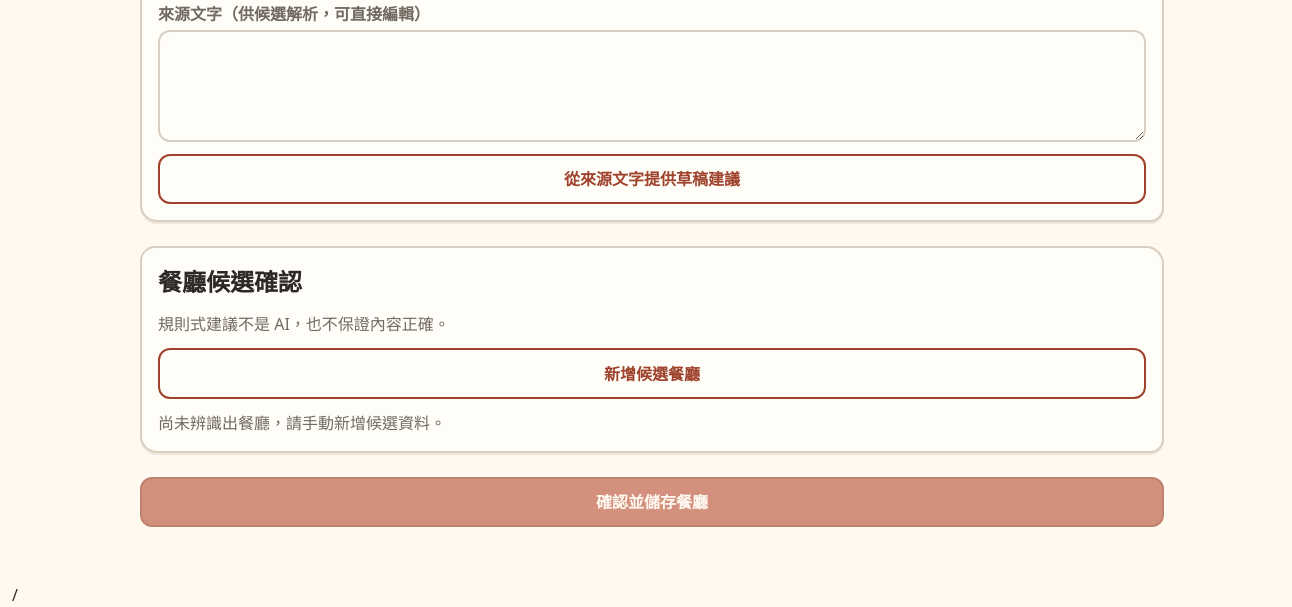
Test: ImportRestaurantPage › does not recreate the restaurant when a source retry fails again
The width and height of the screenshot is (1292, 607).
(page scrolled)
Click the button "新增候選餐廳".
click(652, 374)  # box [158, 348, 1146, 399]
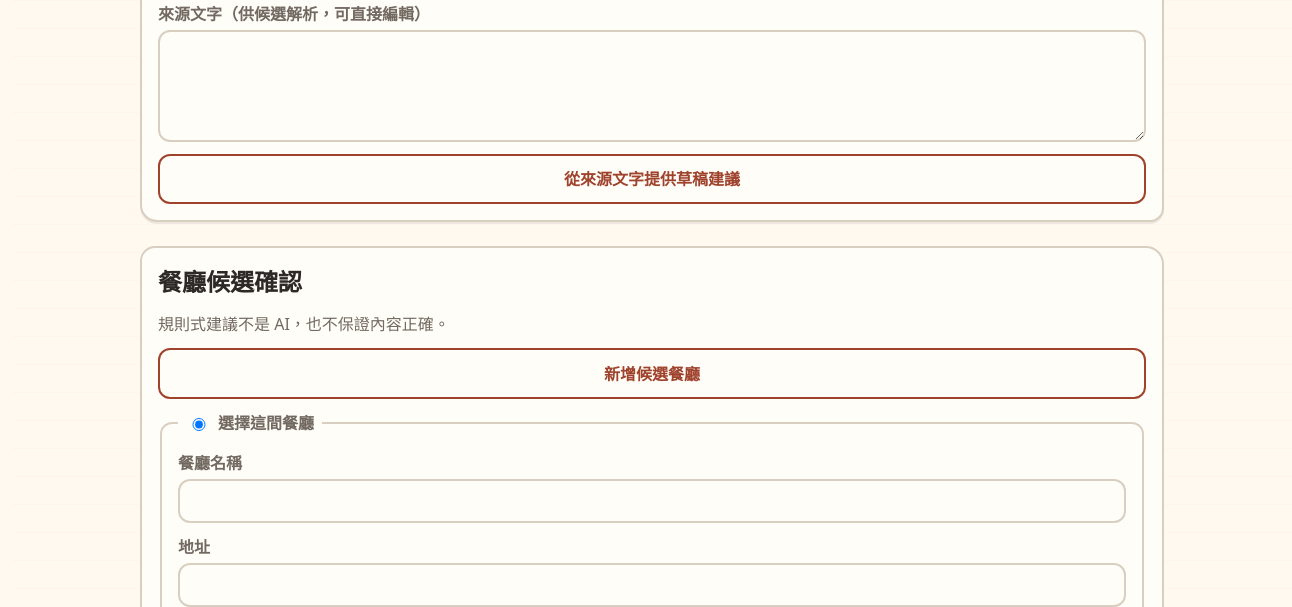
Type "Food Map Cafe" into the field labelled "餐廳名稱".
click(652, 501); type("Food Map Cafe")  # box [178, 479, 1126, 523]
(page scrolled)
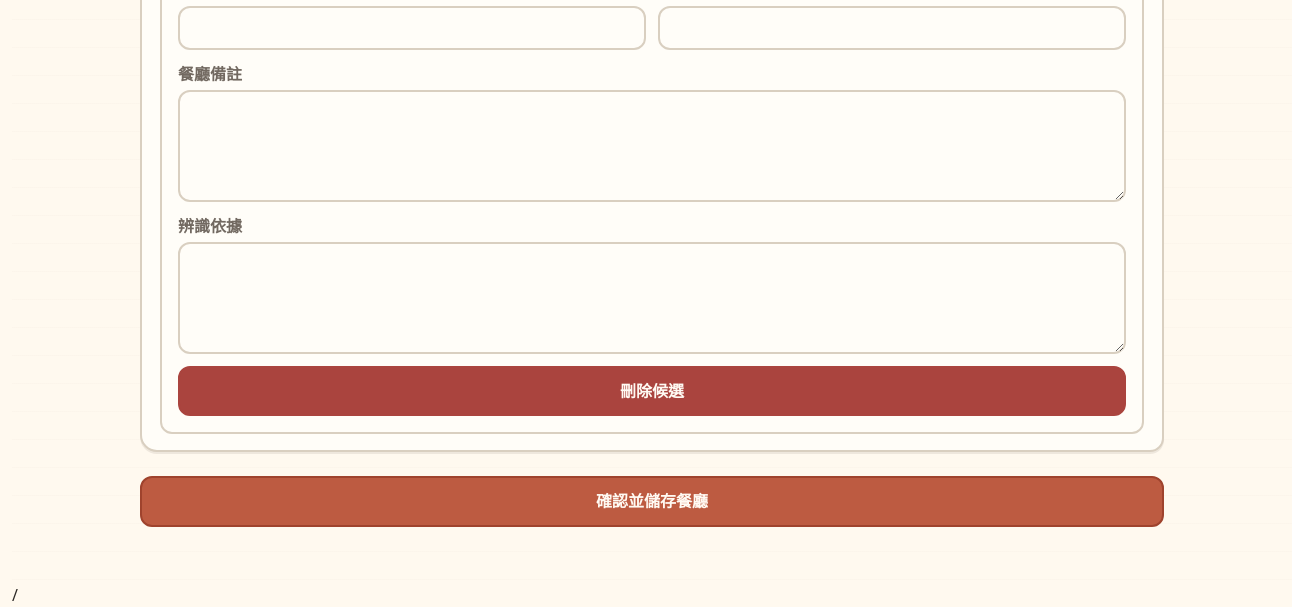
Click the button "確認並儲存餐廳".
click(652, 501)  # box [140, 476, 1164, 527]
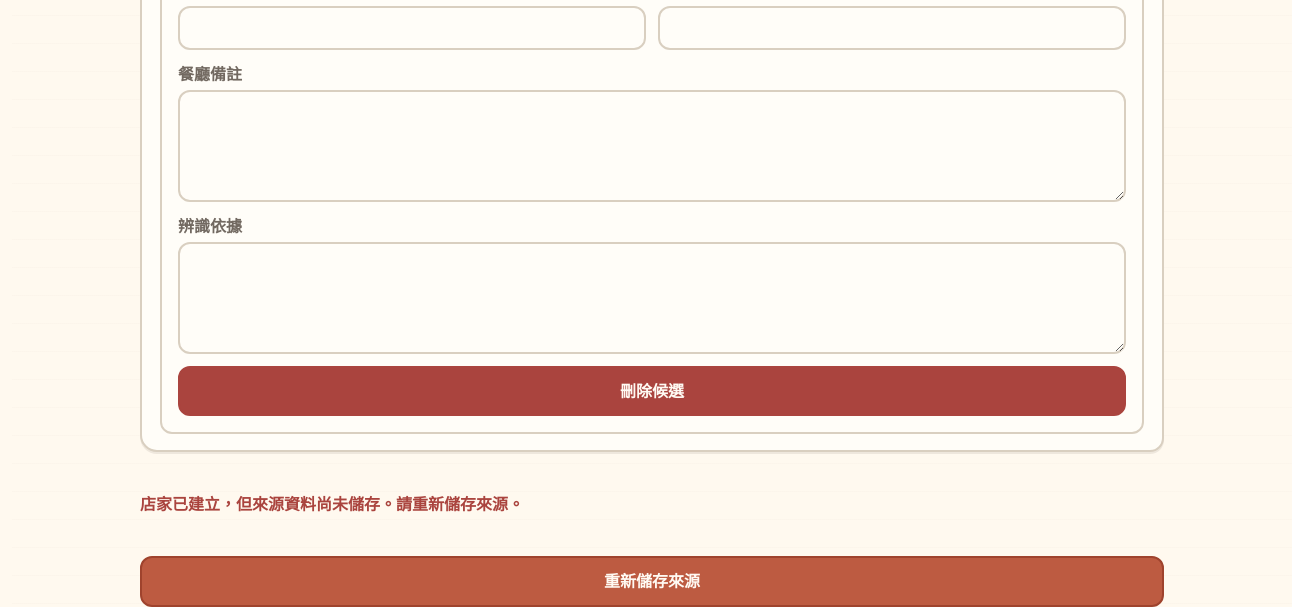
Expected: the button "重新儲存來源" is shown
Click the button "重新儲存來源".
click(652, 581)  # box [140, 556, 1164, 606]
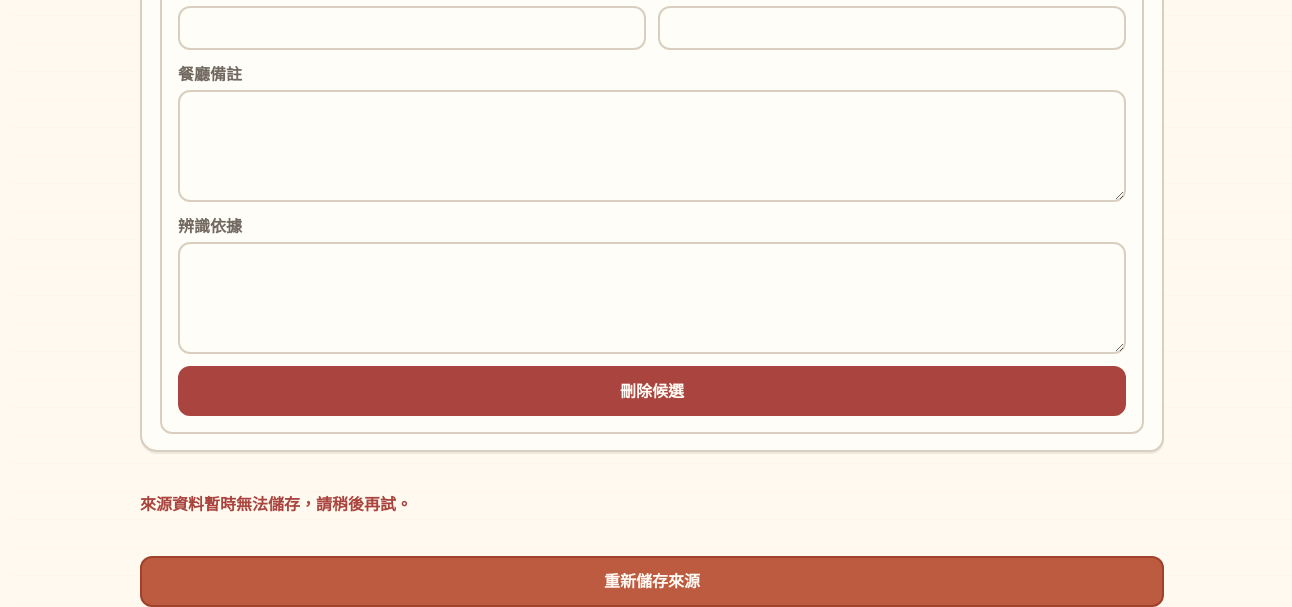
Expected: the message shows "來源資料暫時無法儲存", [140, 493, 412, 515]
